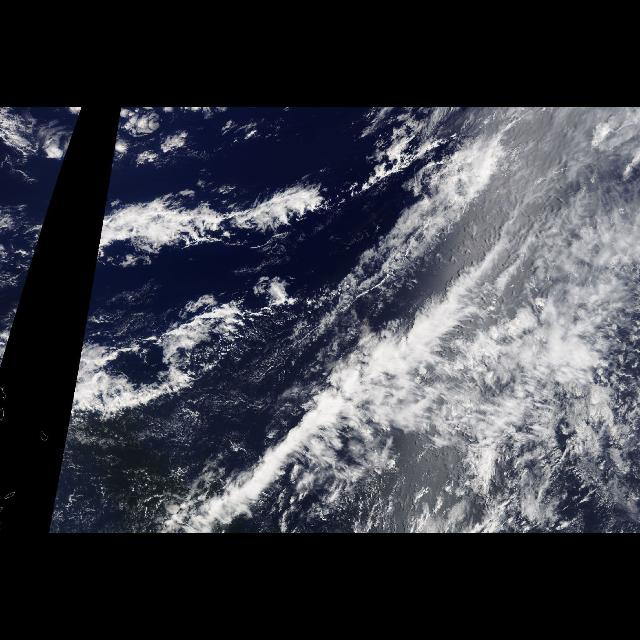Fish: (68, 296, 255, 412), (97, 190, 331, 258)
